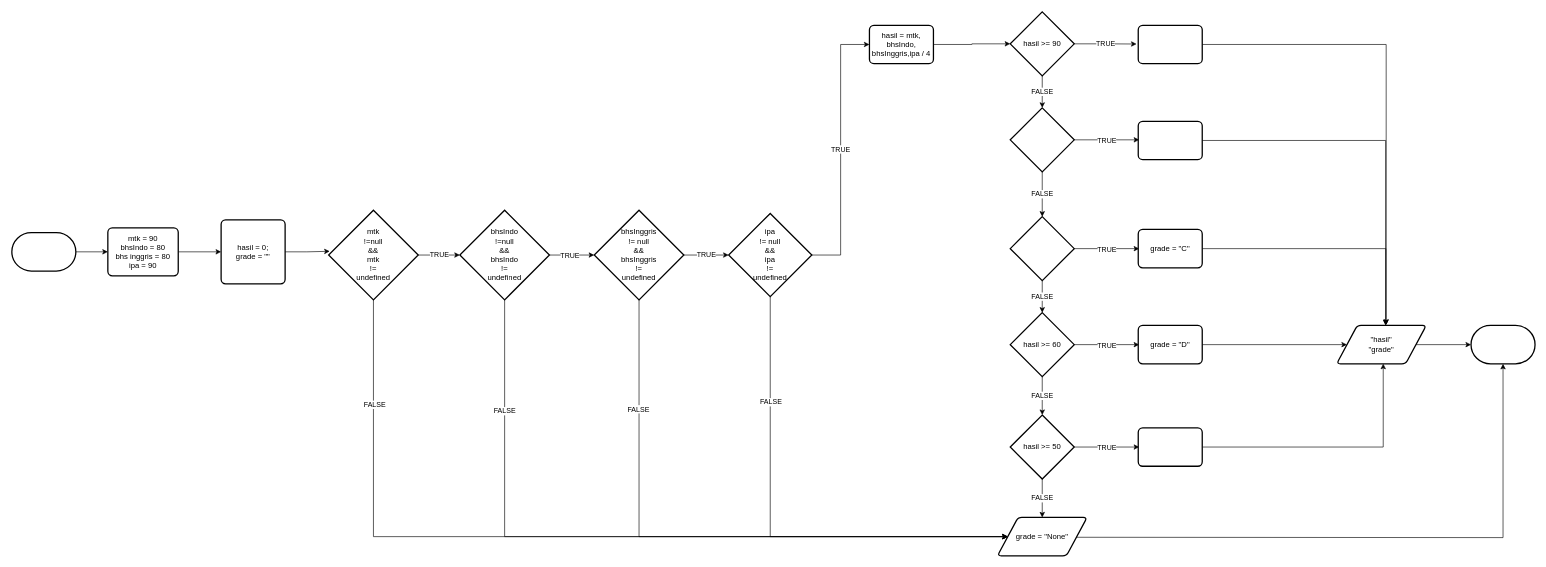
The diagram is 1546 pixels wide and 567 high, and some of its shapes have lost their labels. The shapes that lost their labels are listed below. From the top down, each one's centre as x and y in pixels, then its label:
point 1170,44: grade = "A"
point 1042,139: hasil >= 80
point 1170,140: grade = "B"
point 43,251: Mulai
point 1042,248: hasil >= 70
point 1502,344: Selesai
point 1170,447: grade = "E"
